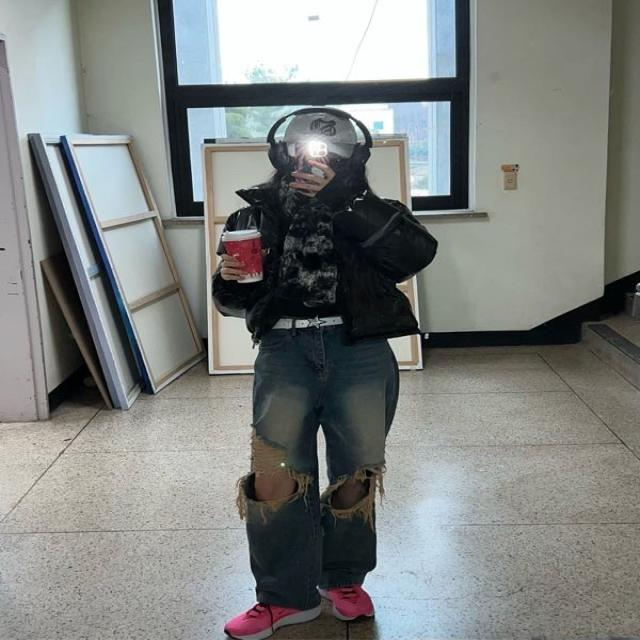denimpants: (240, 319, 400, 609)
padding: (212, 175, 437, 346)
